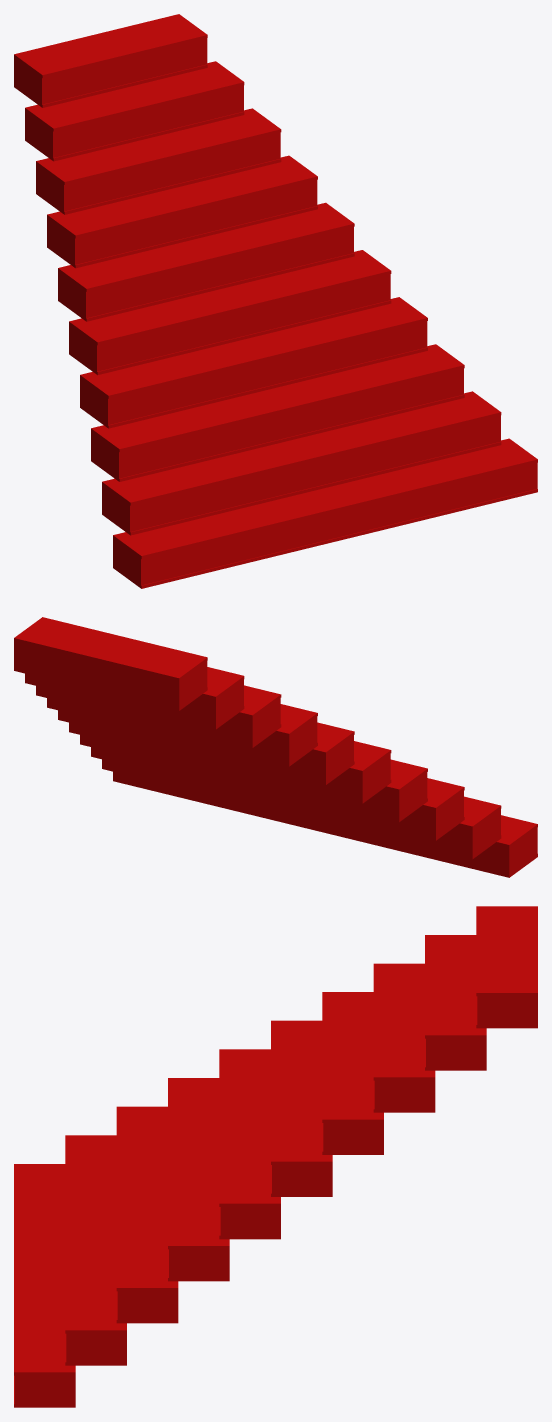
File: stairs.dae
3 views of the same model, one above another, from view 1: azimuth 30°, elevation 25°; view 2: azimuth 150°, elevation 25°; view 3: azimuth 270°, elevation 25° (orthographic). The views are drawn at different scales.
Parts seen in each view (by area): view 1: CLC_TRAP; view 2: CLC_TRAP; view 3: CLC_TRAP.
Boxes of the visible parts, <box> form: CLC_TRAP: <box>14,14,537,588</box>; CLC_TRAP: <box>14,617,537,877</box>; CLC_TRAP: <box>14,906,537,1407</box>.
Size of the model in its own units: 2.4 by 1.9 by 2.55.
